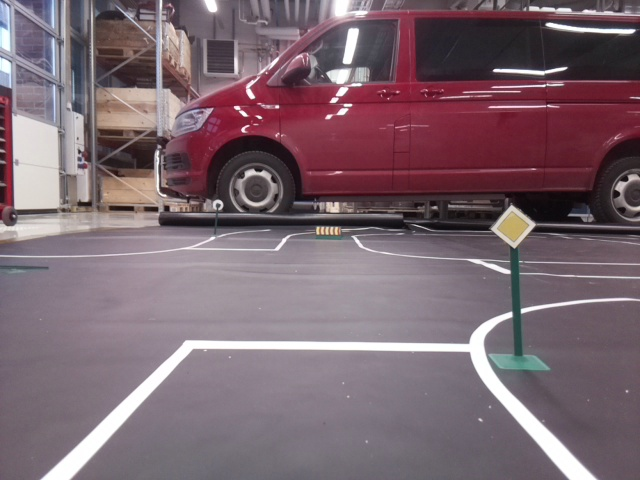Priority: (492, 204, 536, 244)
